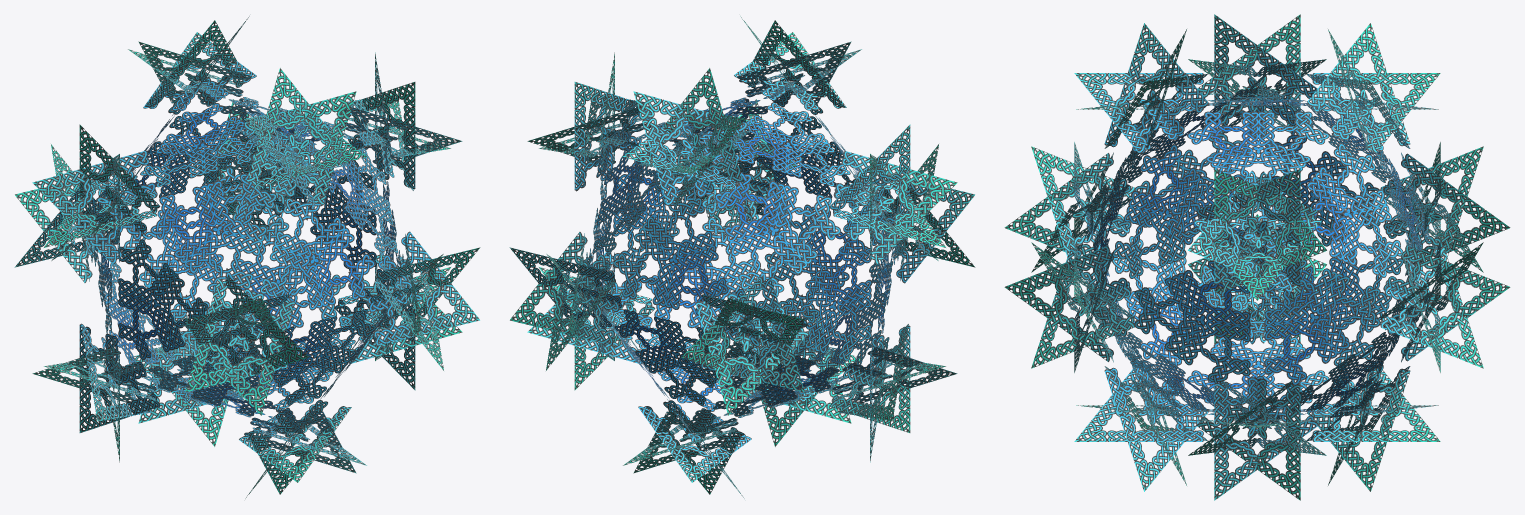
The model's file is 17GreatDodecicosidodecahedron.gltf.
3 views of the same model, side by side, from view 1: azimuth 30°, elevation 25°; view 2: azimuth 150°, elevation 25°; view 3: azimuth 270°, elevation 25° (orthographic). The views are drawn at different scales.
Parts seen in each view (by area): view 1: 20GreatDodecicosidodecahedron; view 2: 20GreatDodecicosidodecahedron; view 3: 20GreatDodecicosidodecahedron.
Part boxes in pixels (x1,y1,x2,y2): 20GreatDodecicosidodecahedron: [14, 16, 480, 498]; 20GreatDodecicosidodecahedron: [509, 16, 975, 498]; 20GreatDodecicosidodecahedron: [1004, 14, 1510, 500].
Size of the model in its own units: 1.38 by 1.38 by 1.38.
1 material, 1 textured.
